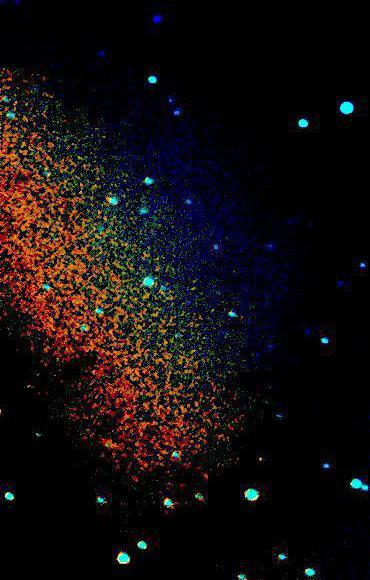star: (248, 444, 278, 474)
